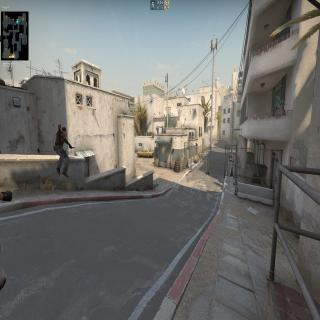T-Head: (61, 125, 67, 133)
